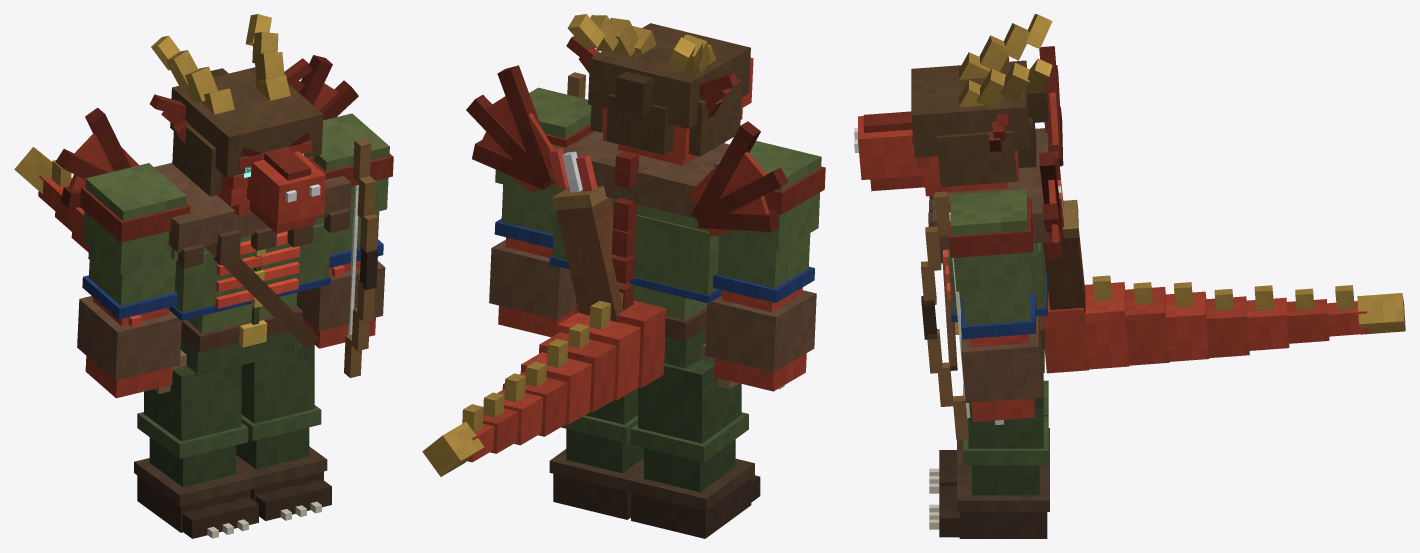
Rendered from dragonoid_chasseur.glb.
3 views of the same model, side by side, from view 1: azimuth 30°, elevation 25°; view 2: azimuth 150°, elevation 25°; view 3: azimuth 270°, elevation 25° (orthographic). The views are drawn at different scales.
Parts seen in each view (by area): view 1: Torso, Head, ArmR, LegR, LegL, ArmL, HandL, Root; view 2: Torso, Head, ArmR, LegR, ArmL, LegL; view 3: Torso, Head, ArmL, LegL, HandL, LegR.
Boxes of the visible parts, bbox=[...] form: Torso: bbox=[14, 55, 358, 393]; Head: bbox=[150, 14, 325, 233]; ArmR: bbox=[77, 163, 190, 398]; LegR: bbox=[134, 365, 258, 538]; LegL: bbox=[236, 344, 331, 520]; ArmL: bbox=[296, 113, 393, 348]; HandL: bbox=[344, 138, 378, 377]; Root: bbox=[207, 501, 321, 538]; Torso: bbox=[422, 65, 788, 476]; Head: bbox=[566, 14, 753, 165]; ArmR: bbox=[705, 140, 825, 391]; LegR: bbox=[627, 359, 760, 538]; ArmL: bbox=[489, 87, 593, 337]; LegL: bbox=[549, 388, 643, 519]; Torso: bbox=[928, 46, 1405, 373]; Head: bbox=[854, 14, 1052, 196]; ArmL: bbox=[948, 189, 1043, 425]; LegL: bbox=[939, 373, 1049, 538]; HandL: bbox=[921, 191, 970, 440]; LegR: bbox=[939, 380, 1049, 485].
Size of the model in its own units: 1.38 by 2.05 by 2.2.
Materials: 47 (47 with a texture image).
